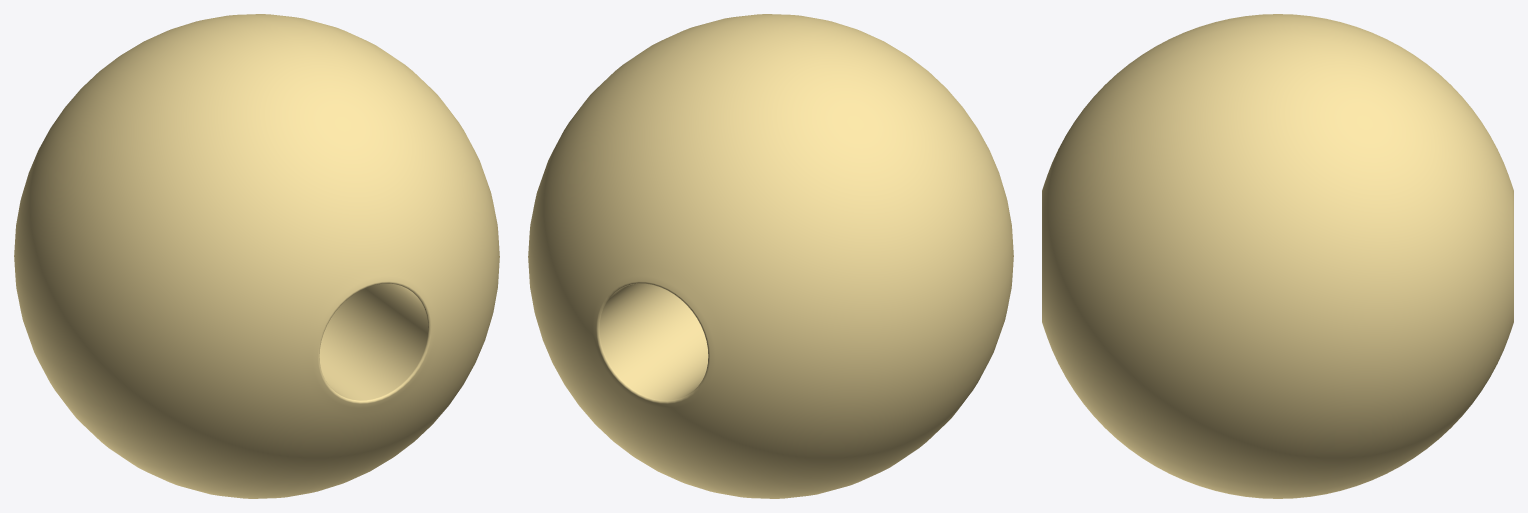
File: classic-bead-2mm.glb
The picture shows the model from 3 angles, left to right: view 1: azimuth 30°, elevation 25°; view 2: azimuth 150°, elevation 25°; view 3: azimuth 270°, elevation 25°; orthographic projection.
Parts seen in each view (by area): view 1: Classic_Bead_2mm; view 2: Classic_Bead_2mm; view 3: Classic_Bead_2mm.
Boxes of the visible parts, x1,y1,x2,y2 form: Classic_Bead_2mm: (14,14,499,498); Classic_Bead_2mm: (528,14,1013,498); Classic_Bead_2mm: (1042,14,1513,498).
Size of the model in its own units: 0.00198 by 0.00198 by 0.00192.
